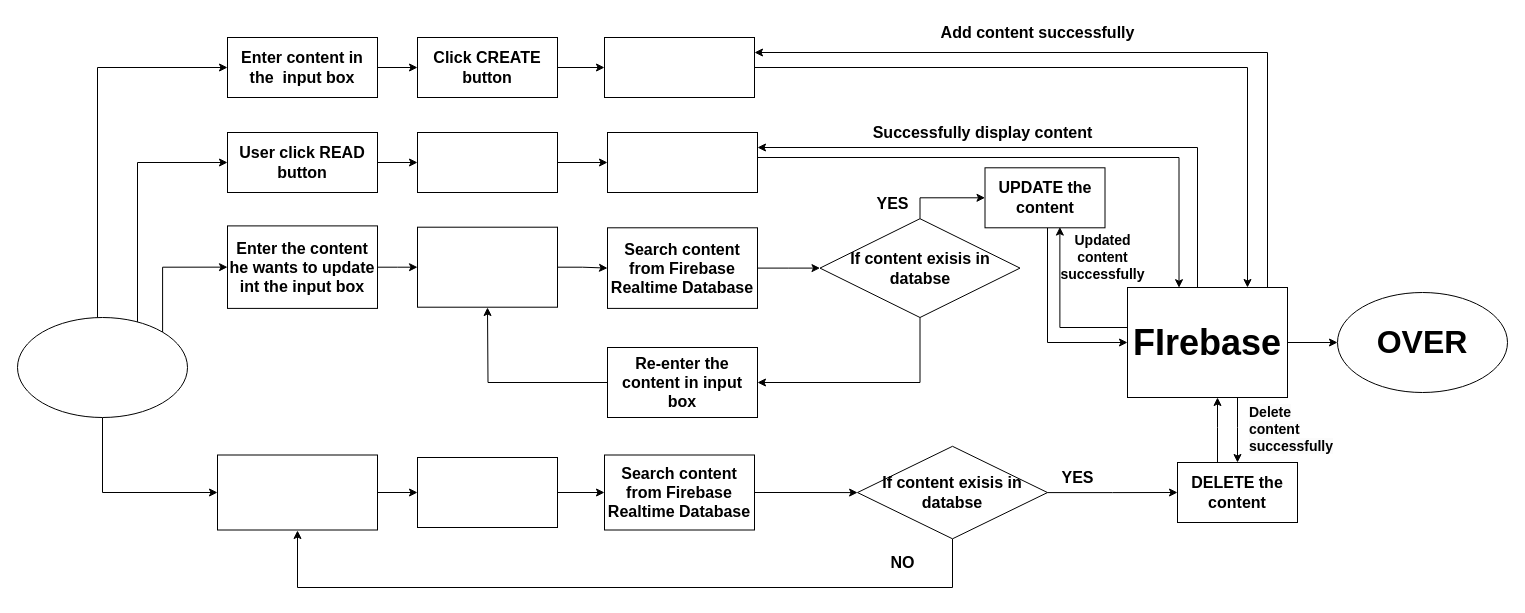
This 1525x613 diagram has some shape labels left out. The shapes that lost their labels are listed below. From the top down, each one's centre as x and y in pixels, then its label:
At (x=679, y=67): "Content has been added in datebase".
At (x=487, y=162): "Click READ button".
At (x=682, y=162): "Show database content".
At (x=487, y=266): "Click UPDATE button".
At (x=102, y=367): "START".
At (x=297, y=492): "Enter the content he wants to delete into input box".
At (x=487, y=492): "Click DELETE button".
